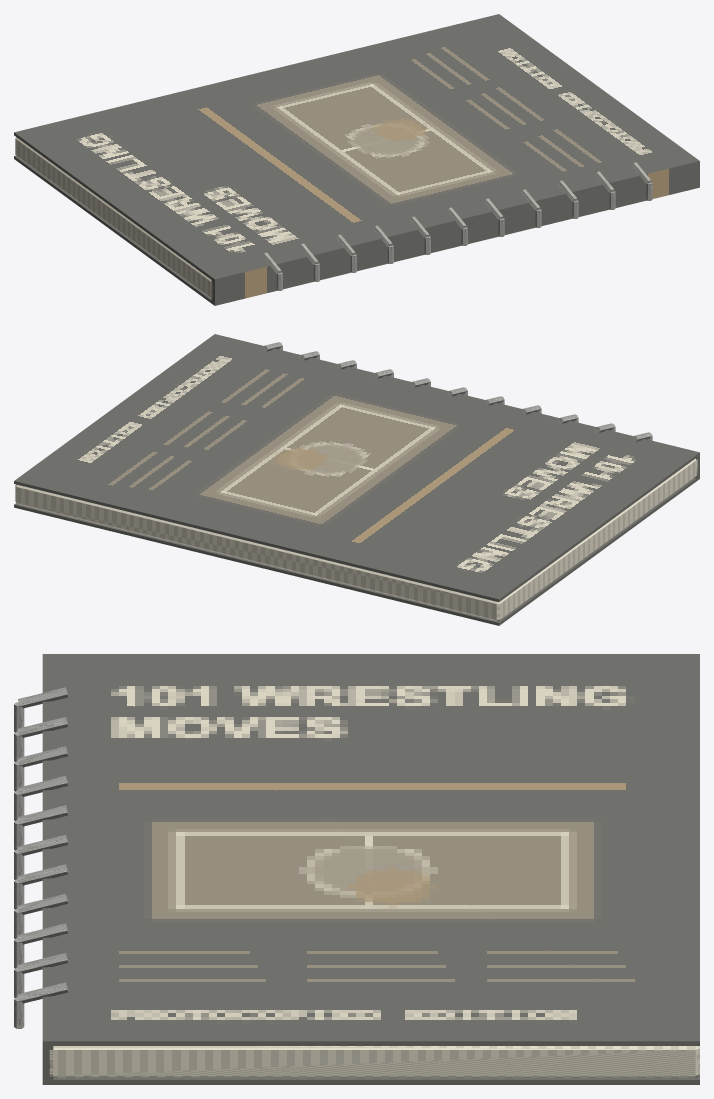
File: manual_brawl.glb
The picture shows the model from 3 angles, top to bottom: view 1: azimuth 30°, elevation 25°; view 2: azimuth 150°, elevation 25°; view 3: azimuth 270°, elevation 25°; orthographic projection. The views are drawn at different scales.
Parts seen in each view (by area): view 1: block_front, block_spine, block_pages, block_back; view 2: block_front, block_pages, block_back, block_spine; view 3: block_front, block_pages, block_back, block_spine.
Part boxes in pixels (x1,y1,x2,y2): block_front: (14,14,698,281); block_spine: (211,159,699,305); block_pages: (15,137,212,298); block_back: (14,155,213,304); block_front: (14,334,699,601); block_pages: (15,458,697,621); block_back: (14,477,699,625); block_spine: (212,334,699,478); block_front: (45,654,699,1045); block_pages: (49,1046,699,1078); block_back: (45,1074,699,1084); block_spine: (42,654,53,1084).
Bounding box in the file's own units: 0.196 × 0.0131 × 0.1468.
1 material, 1 textured.
